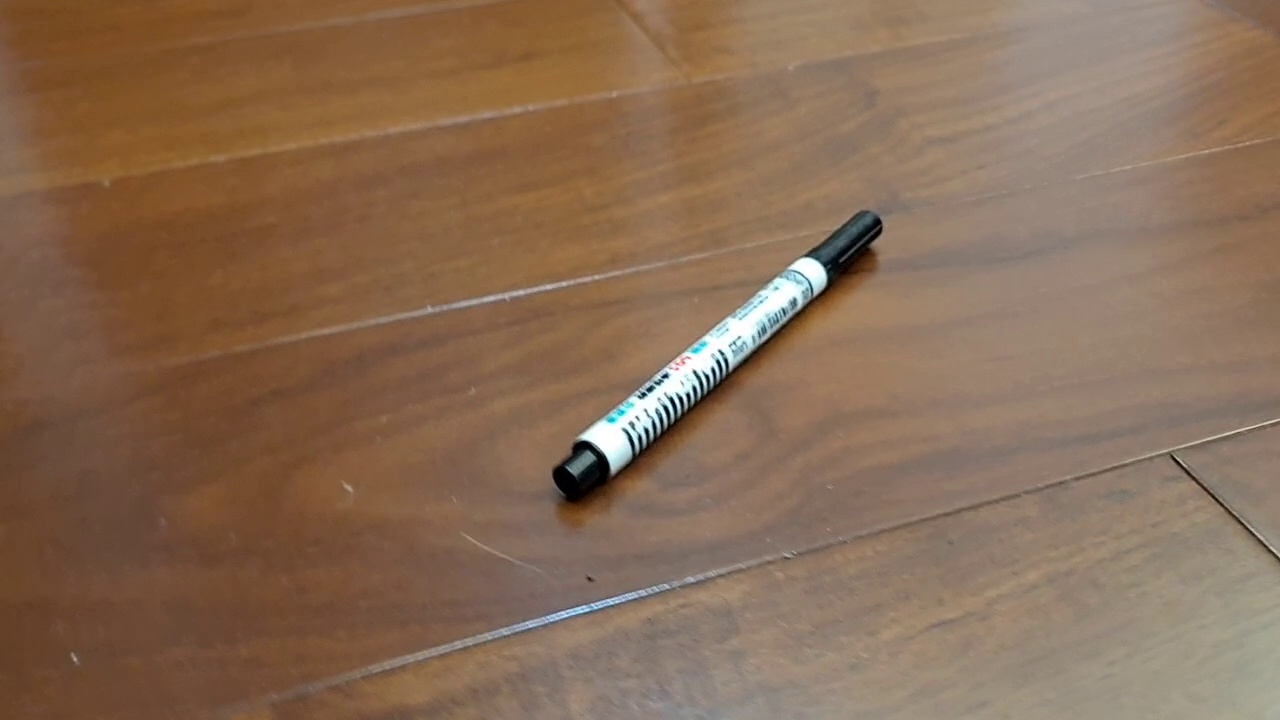pen: (552, 209, 883, 502)
